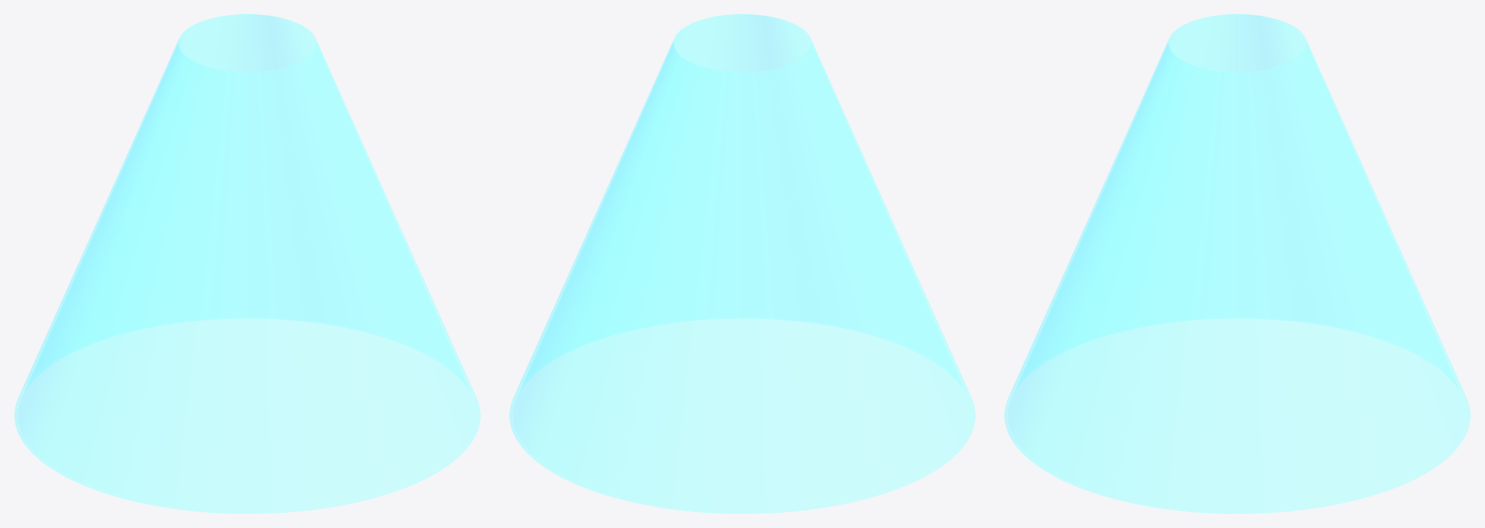
The model's file is light.glb.
3 renders of one model, left to right at view 1: azimuth 30°, elevation 25°; view 2: azimuth 150°, elevation 25°; view 3: azimuth 270°, elevation 25°, orthographic.
Parts seen in each view (by area): view 1: Cylinder; view 2: Cylinder; view 3: Cylinder.
Part boxes in pixels (x1,y1,x2,y2): Cylinder: [14, 14, 480, 513]; Cylinder: [509, 14, 975, 513]; Cylinder: [1004, 14, 1470, 513].
Bounding box in the file's own units: 4.05 × 3.57 × 4.05.
